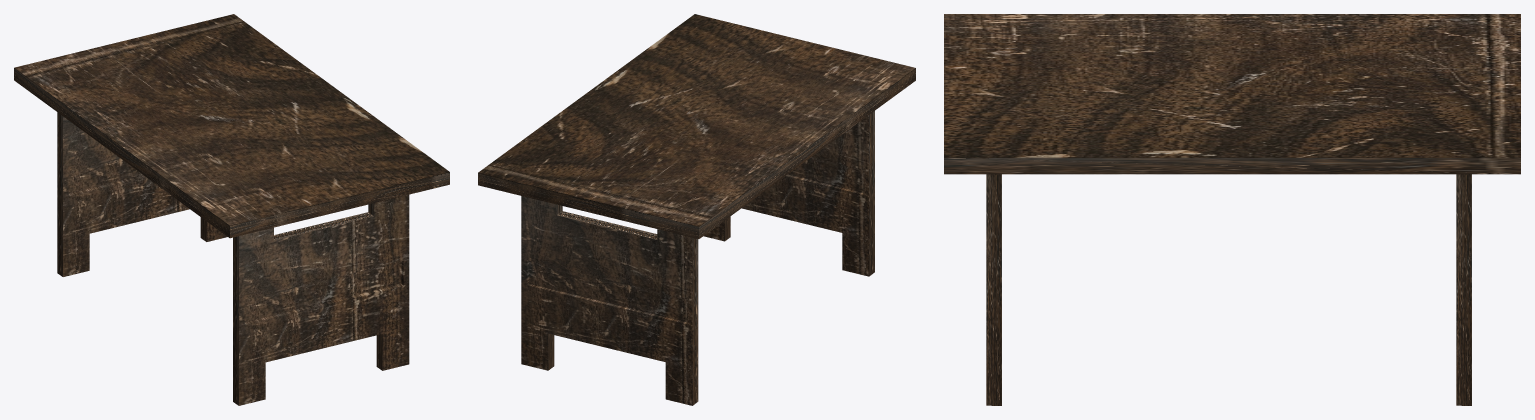
File: fuzeball_arcade_table.glb
3 renders of one model, left to right at view 1: azimuth 30°, elevation 25°; view 2: azimuth 150°, elevation 25°; view 3: azimuth 270°, elevation 25°, orthographic. The views are drawn at different scales.
Visible parts, largest first — view 1: room_cab2_body.001; view 2: room_cab2_body.001; view 3: room_cab2_body.001.
Boxes of the visible parts, box(x1,y1,x2,y2) form: room_cab2_body.001: box(14, 14, 449, 405); room_cab2_body.001: box(478, 14, 915, 405); room_cab2_body.001: box(944, 14, 1520, 405).
Size of the model in its own units: 72.08 by 61.99 by 122.
Materials: 1 (1 with a texture image).
